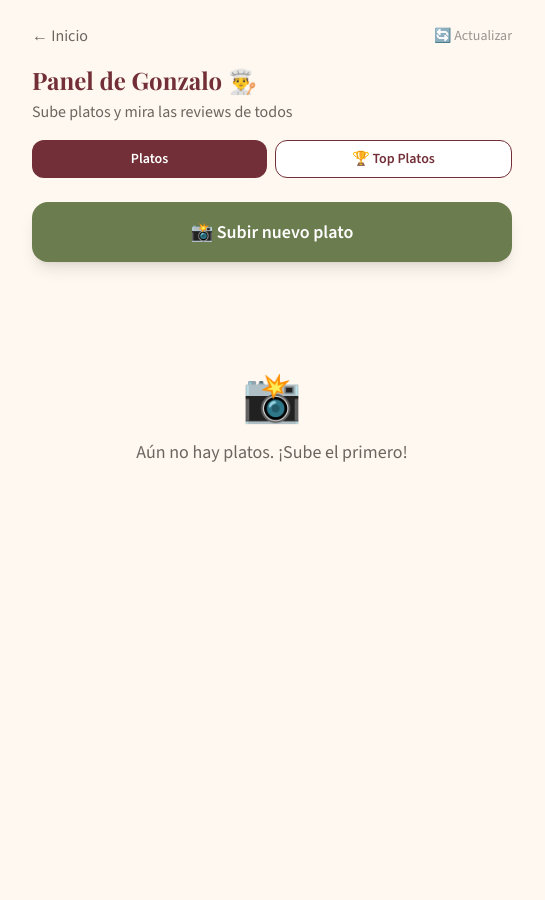
AdminDashboard › clicking "Subir nuevo plato" shows AddDishModal
Click the button "📸 Subir nuevo plato": (272, 232) [32, 202, 512, 262]
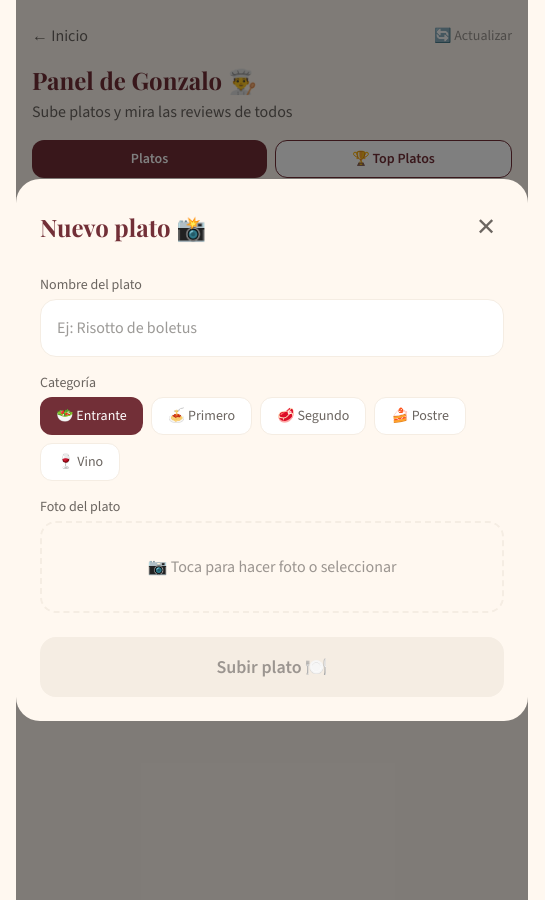
Expected: the heading "Nuevo plato 📸" is shown, [40, 211, 206, 243]
